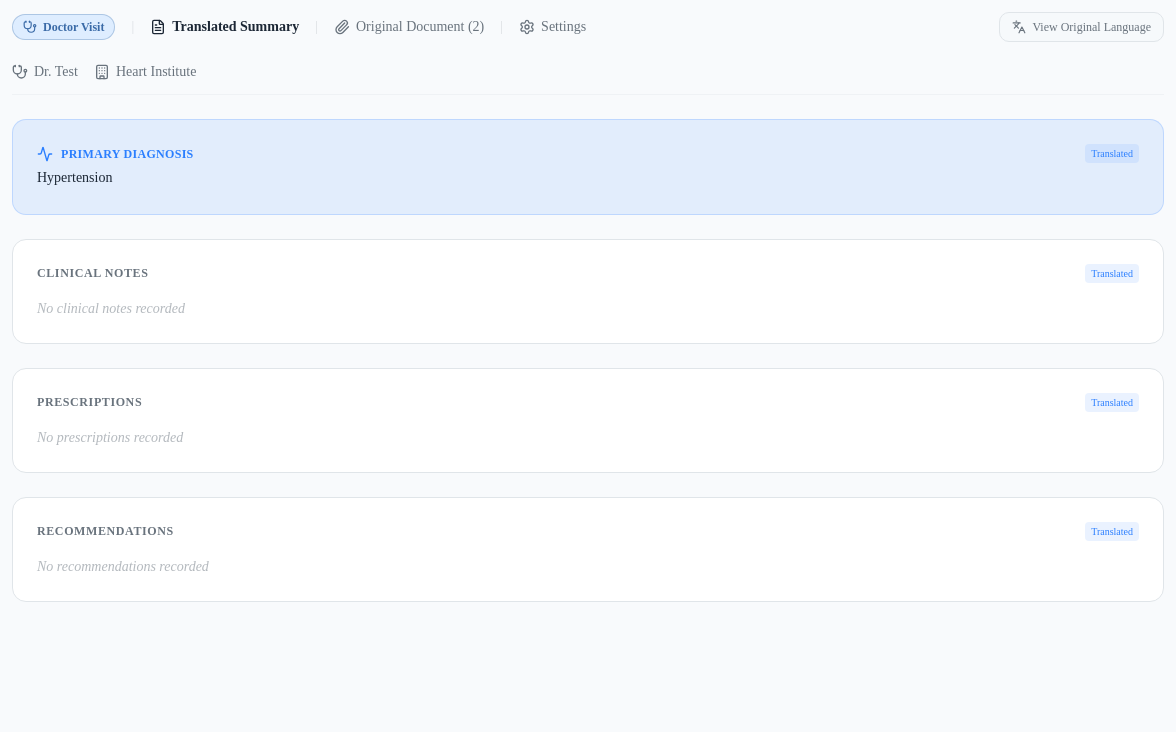
Test case: DoctorVisitDetails › renders a Settings tab and switches to it on click
Click the button "Settings" at (553, 27), box [519,17,586,37]
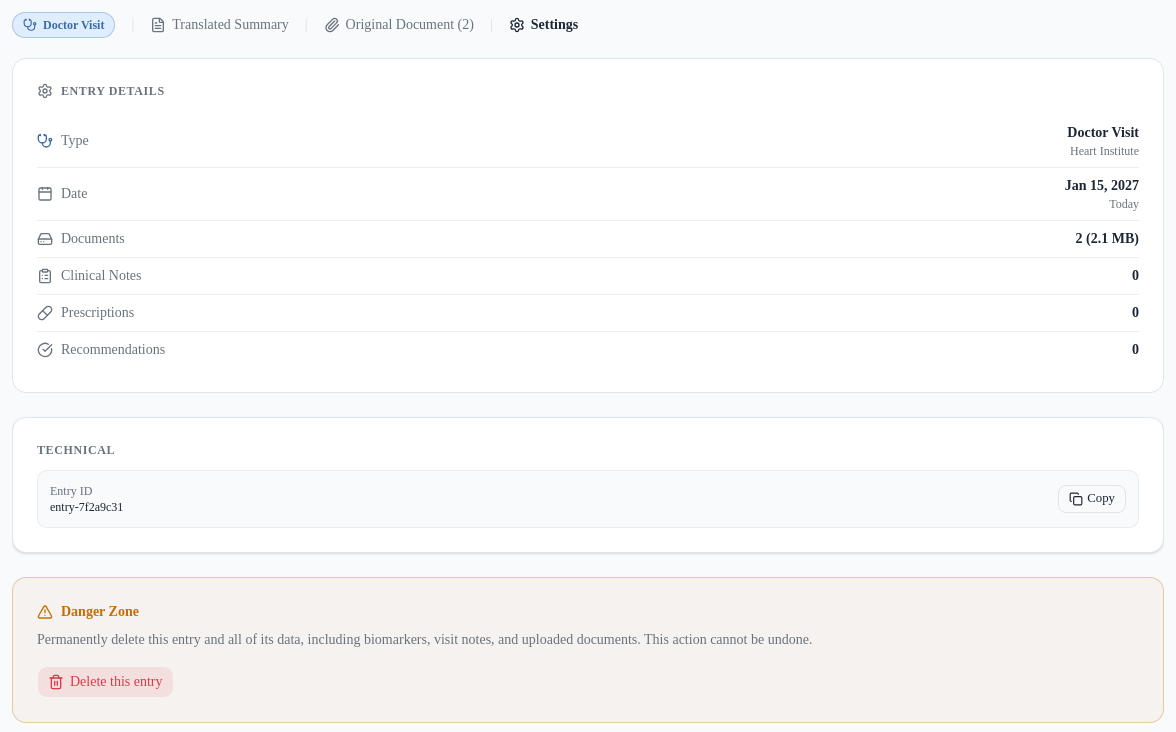
Check: the heading "Entry Details" is shown, box [61,83,165,99]
Check: the heading "Danger Zone" is shown, box [61,602,139,622]
